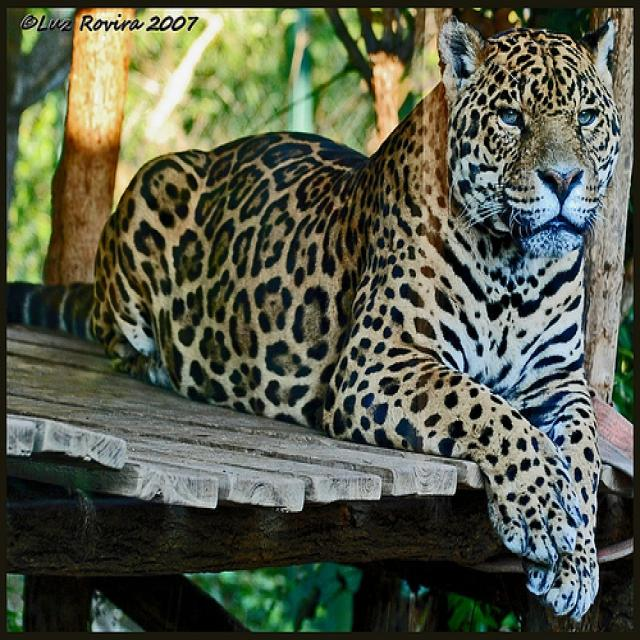Leopard: (1, 8, 624, 626)
